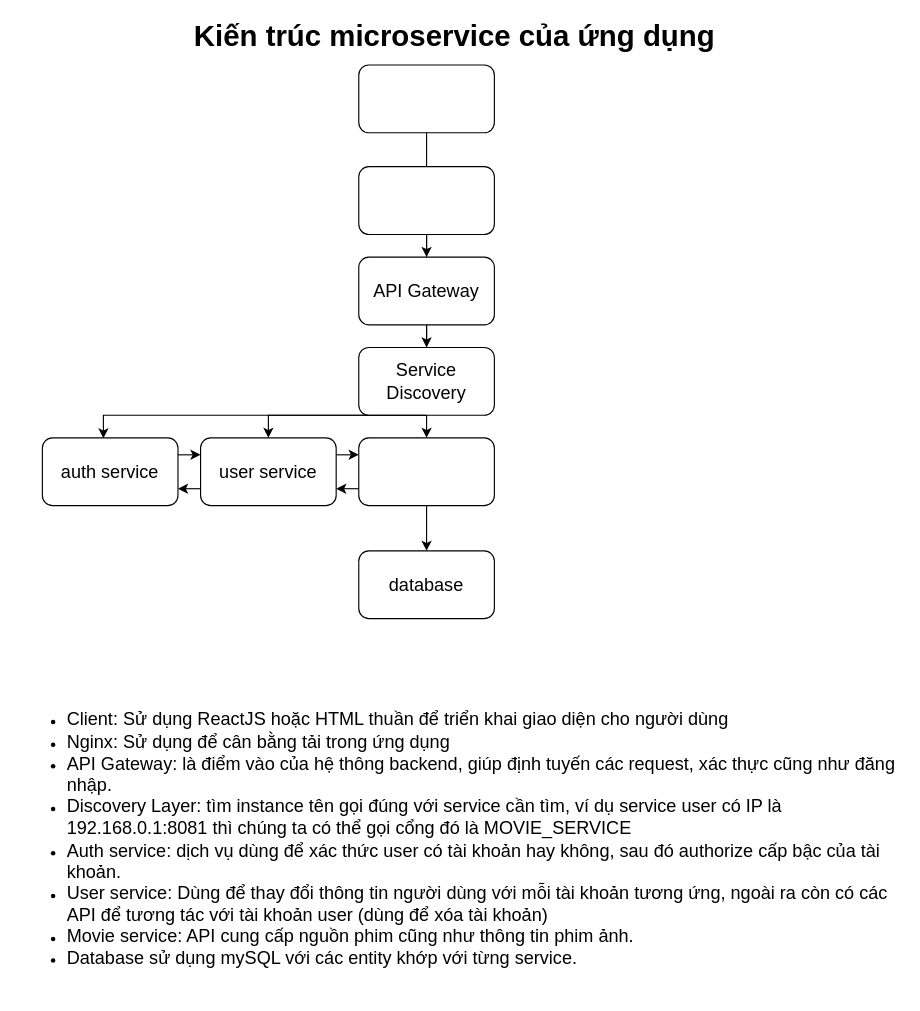
This 920x1011 diagram has some shape labels left out. The centre of each missing label's shape, as x and y in pixels:
"Client (web/ browser)" belongs at (426,98).
"movie service" belongs at (426,471).
"Nginx" belongs at (426,200).
